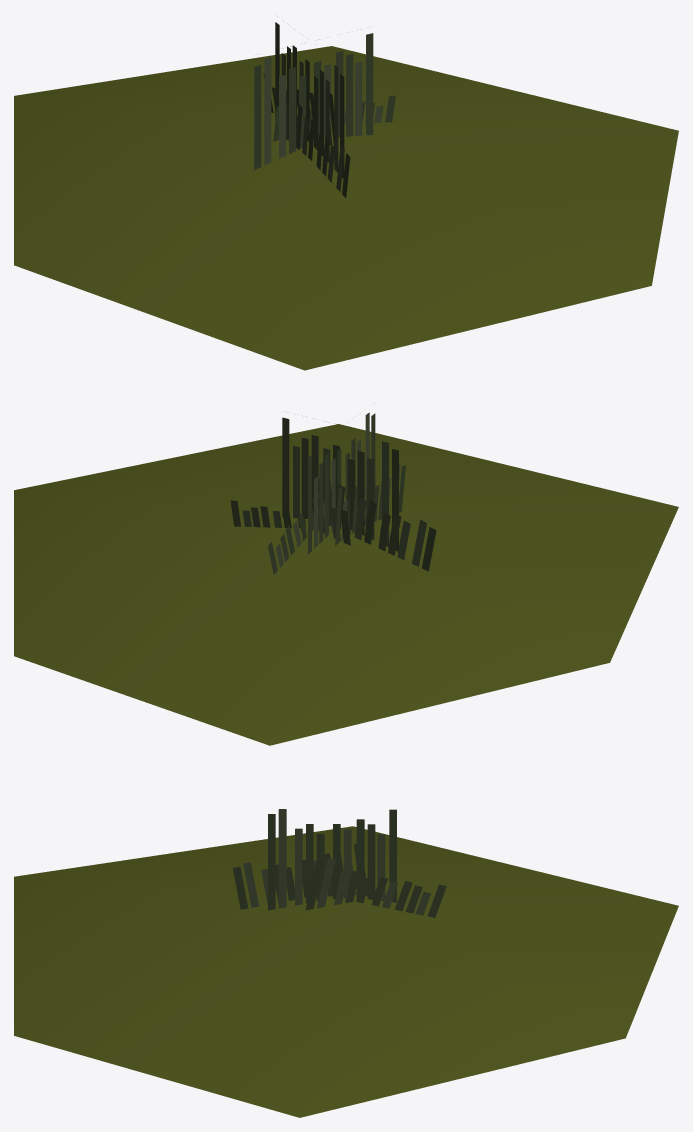
The model's file is SM_grassVerticalSingle.gltf.
The picture shows the model from 3 angles, top to bottom: view 1: azimuth 30°, elevation 25°; view 2: azimuth 150°, elevation 25°; view 3: azimuth 270°, elevation 25°; orthographic projection. The views are drawn at different scales.
Visible parts, largest first — view 1: SM_grassVerticalSingle; view 2: SM_grassVerticalSingle; view 3: SM_grassVerticalSingle.
Part boxes in pixels (x1,y1,x2,y2): SM_grassVerticalSingle: (14, 22, 678, 370); SM_grassVerticalSingle: (14, 412, 678, 745); SM_grassVerticalSingle: (14, 809, 678, 1117).
Bounding box in the file's own units: 4.98 × 1.22 × 4.79.
Materials: 2 (2 with a texture image).
